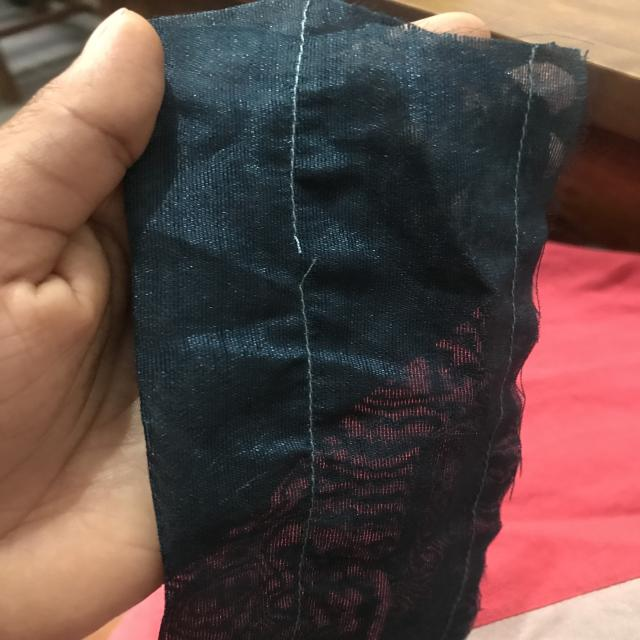broken: (260, 226, 328, 301)
good: (269, 91, 316, 204), (298, 332, 326, 446)
